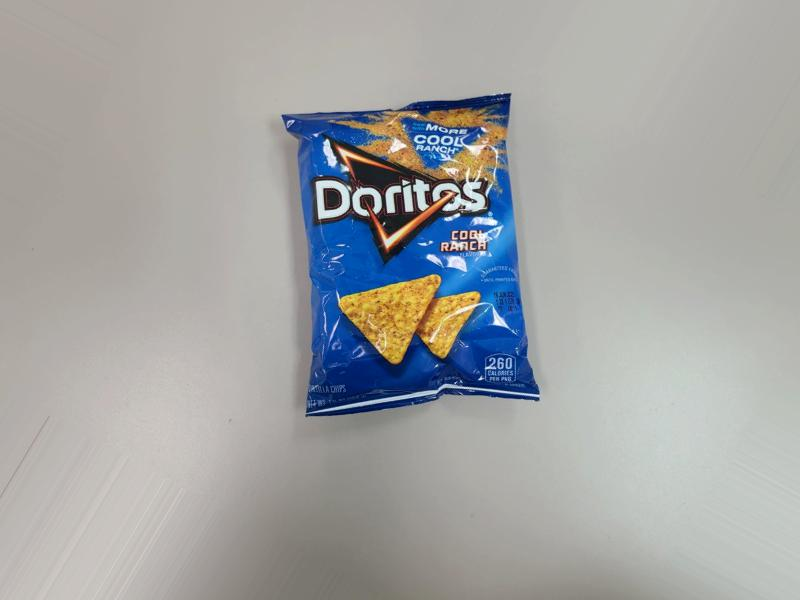doritos: (278, 90, 522, 428)
